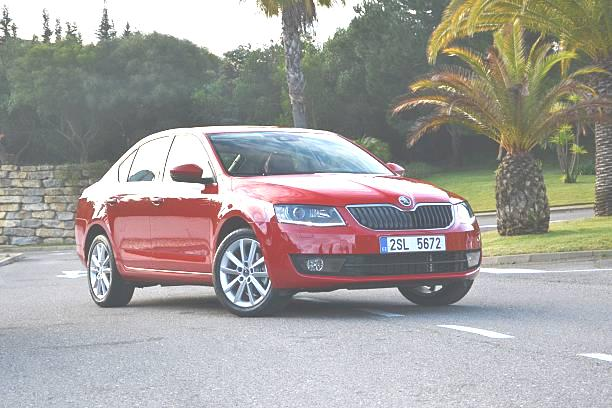skoda: (394, 193, 418, 210)
